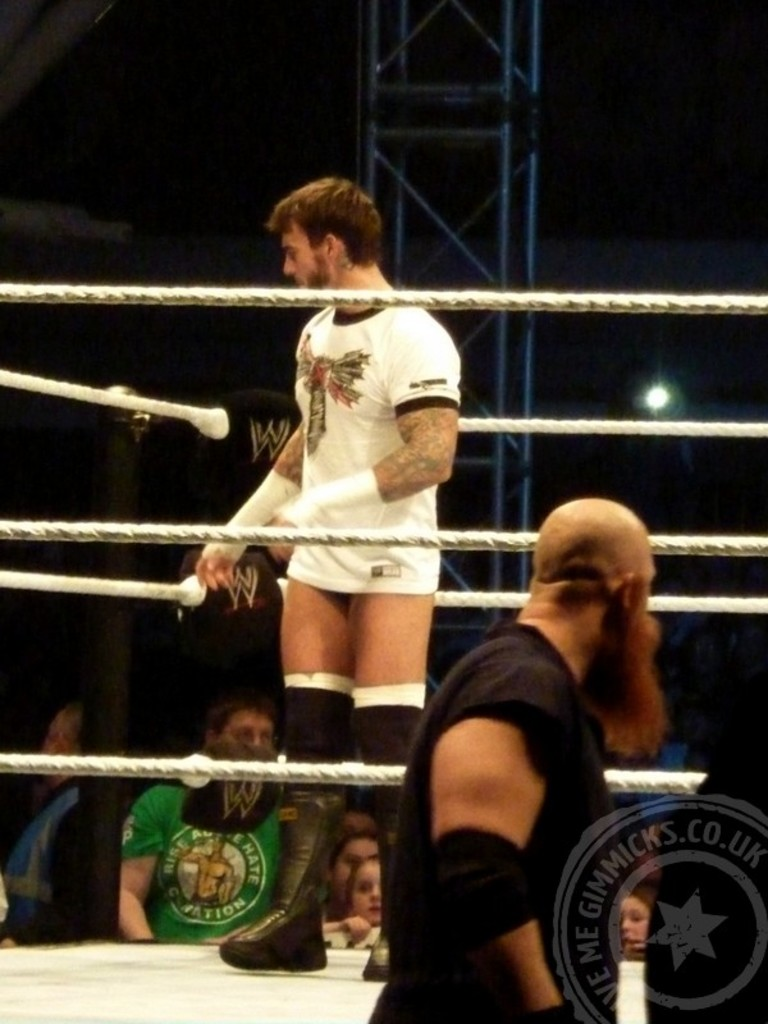Person: (0, 178, 767, 1024)
